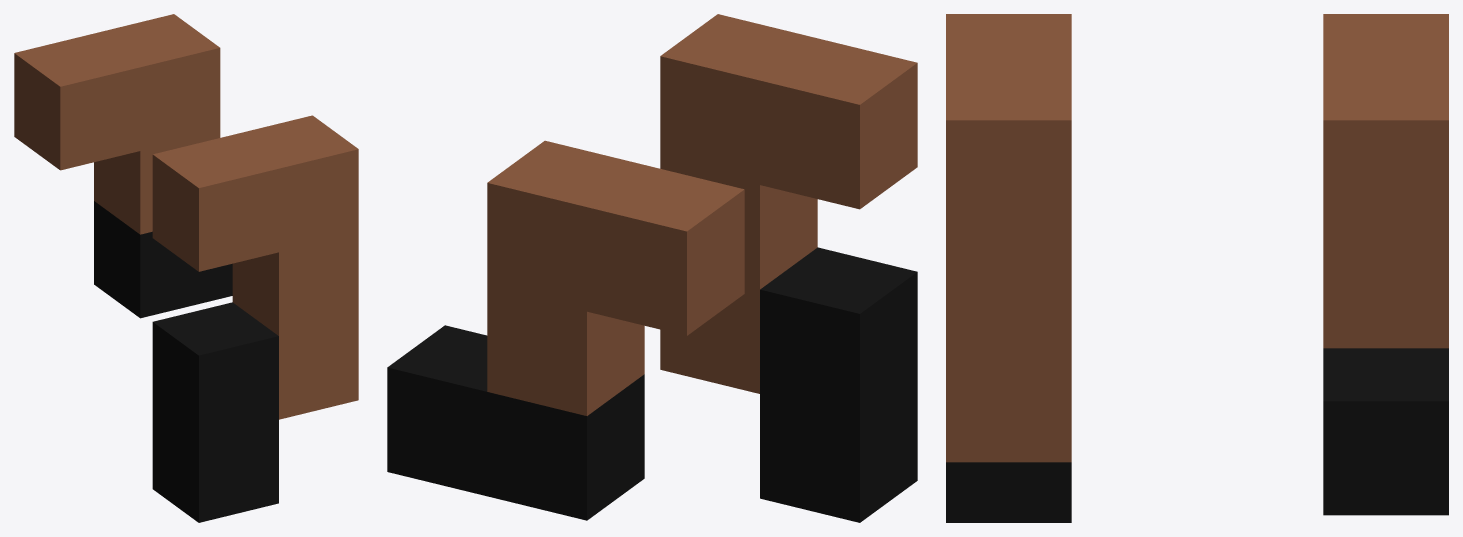
Rendered from levelRight.vox.obj.
3 views of the same model, side by side, from view 1: azimuth 30°, elevation 25°; view 2: azimuth 150°, elevation 25°; view 3: azimuth 270°, elevation 25° (orthographic). The views are drawn at different scales.
Size of the model in its own units: 0.3 by 0.4 by 0.4.
Materials: 1 (1 with a texture image).
